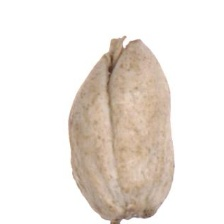L1: (102, 34, 140, 77), (106, 203, 158, 224)
L2: (66, 37, 175, 223)
